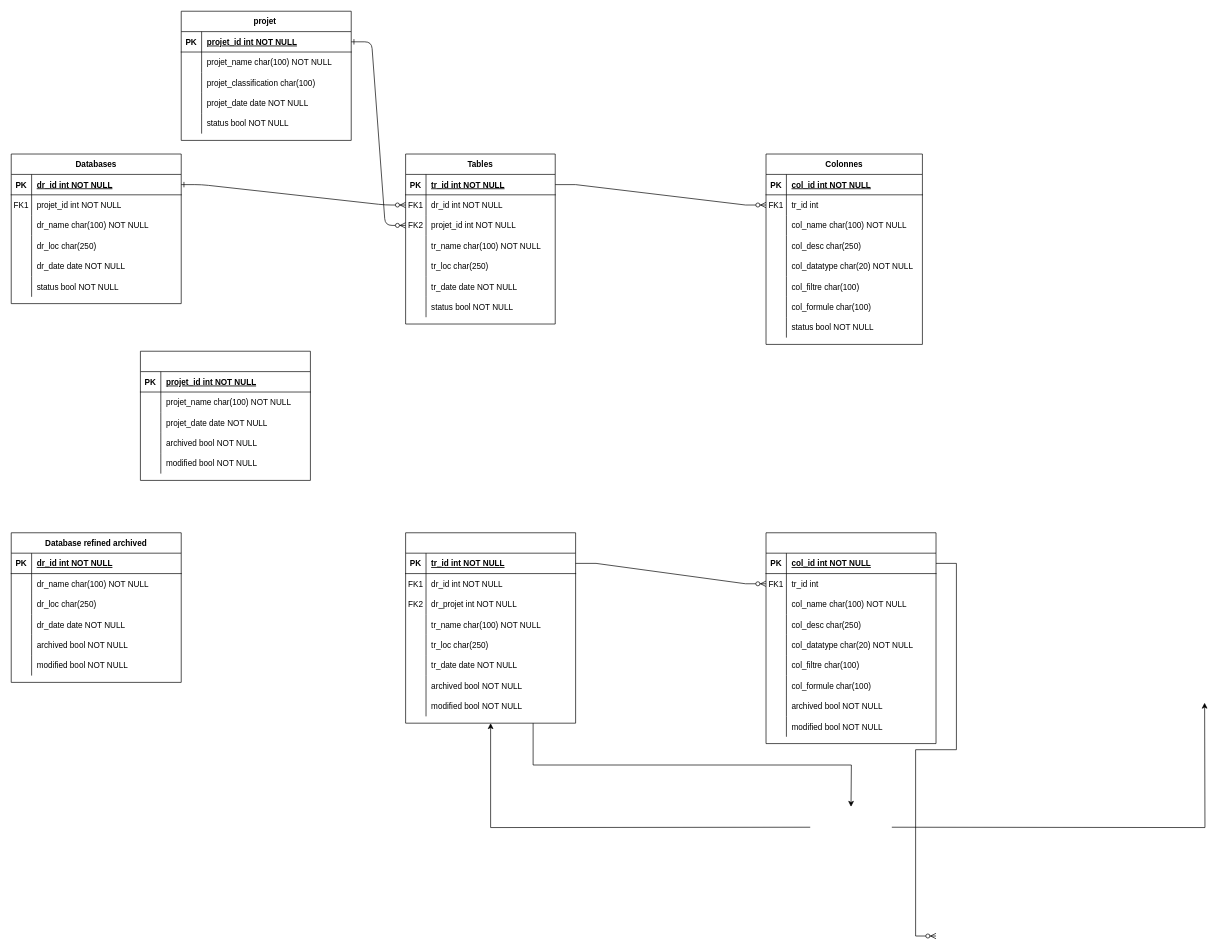
Image size: 1219x950. Some labels were removed from this diagram. The shapes that lost their labels are listed below. From the top down, each one's box as (x1, y1, x2, y2) in pixels, then its label:
(140, 351, 310, 480): projet archives
(405, 532, 576, 723): table refined archived
(765, 532, 936, 744): colonnes archived
